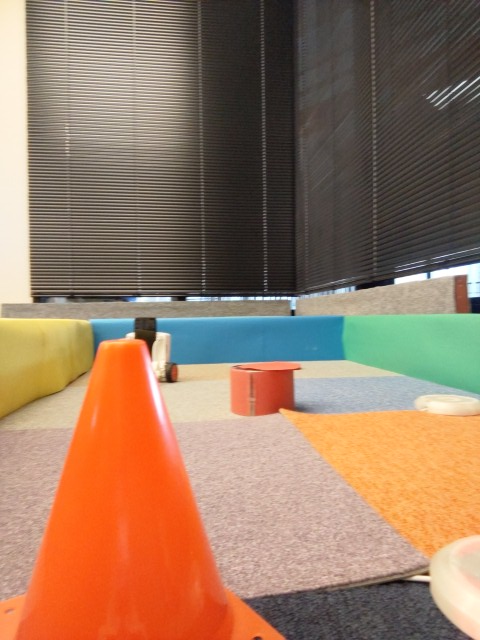o: (413, 388, 480, 423)
